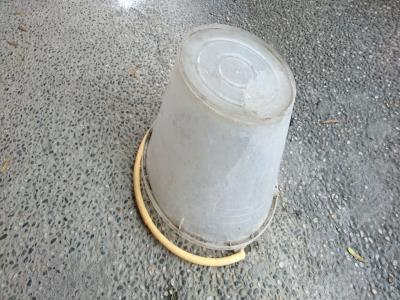bucket: (138, 21, 299, 256)
